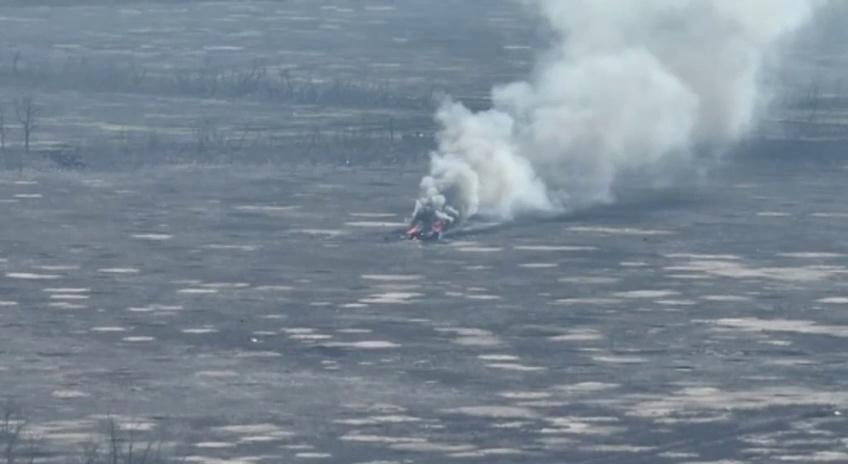vehicle: (384, 226, 440, 244)
